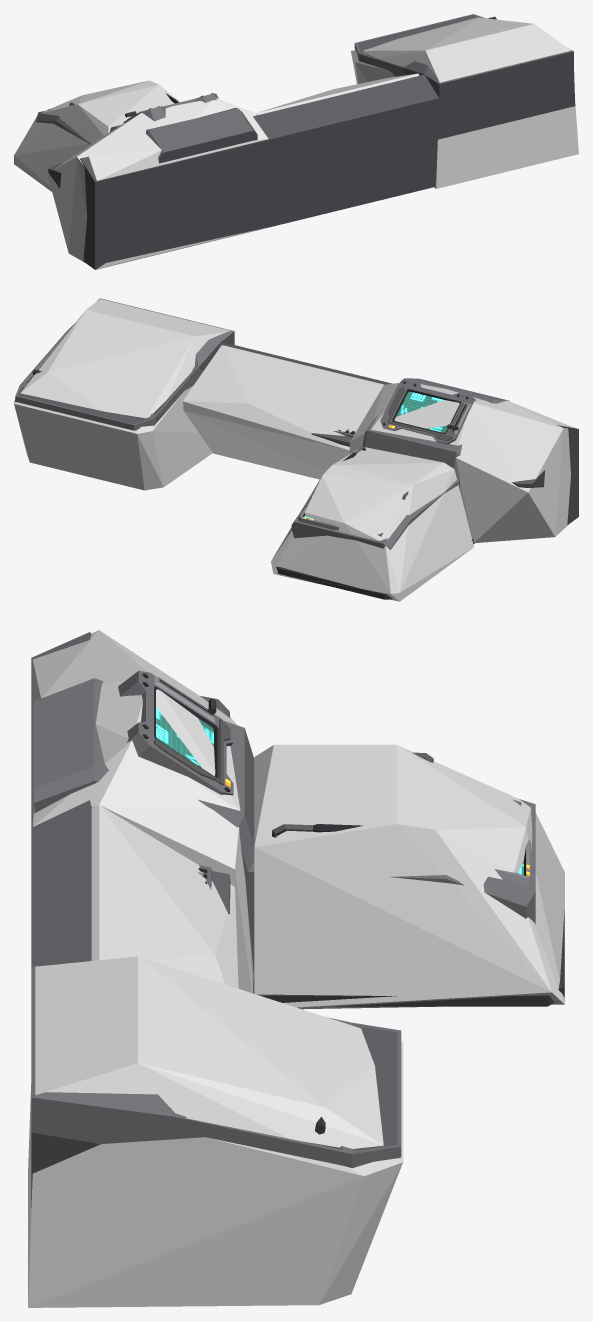
The model's file is SM_Prop_ControlPanel_03.fbx.
The picture shows the model from 3 angles, top to bottom: view 1: azimuth 30°, elevation 25°; view 2: azimuth 150°, elevation 25°; view 3: azimuth 270°, elevation 25°; orthographic projection. The views are drawn at different scales.
Visible parts, largest first — view 1: SM_Prop_ControlPanel_03_LOD0, SM_Prop_ControlPanel_03_ConvexHulls; view 2: SM_Prop_ControlPanel_03_ConvexHulls, SM_Prop_ControlPanel_03_LOD0; view 3: SM_Prop_ControlPanel_03_ConvexHulls, SM_Prop_ControlPanel_03_LOD0.
Part boxes in pixels (x1,y1,x2,y2): SM_Prop_ControlPanel_03_LOD0: (36, 14, 575, 269); SM_Prop_ControlPanel_03_ConvexHulls: (14, 17, 578, 268); SM_Prop_ControlPanel_03_ConvexHulls: (14, 299, 575, 601); SM_Prop_ControlPanel_03_LOD0: (15, 298, 578, 599); SM_Prop_ControlPanel_03_ConvexHulls: (28, 630, 564, 1307); SM_Prop_ControlPanel_03_LOD0: (31, 632, 564, 1208).
Bounding box in the file's own units: 257 × 535 × 129.
1 material, 1 textured.
